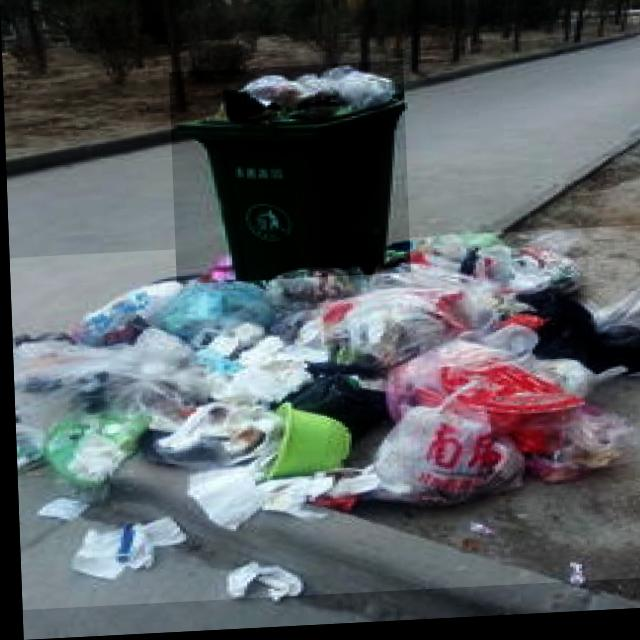garbage: (7, 232, 640, 610)
overflow: (168, 65, 409, 286)
